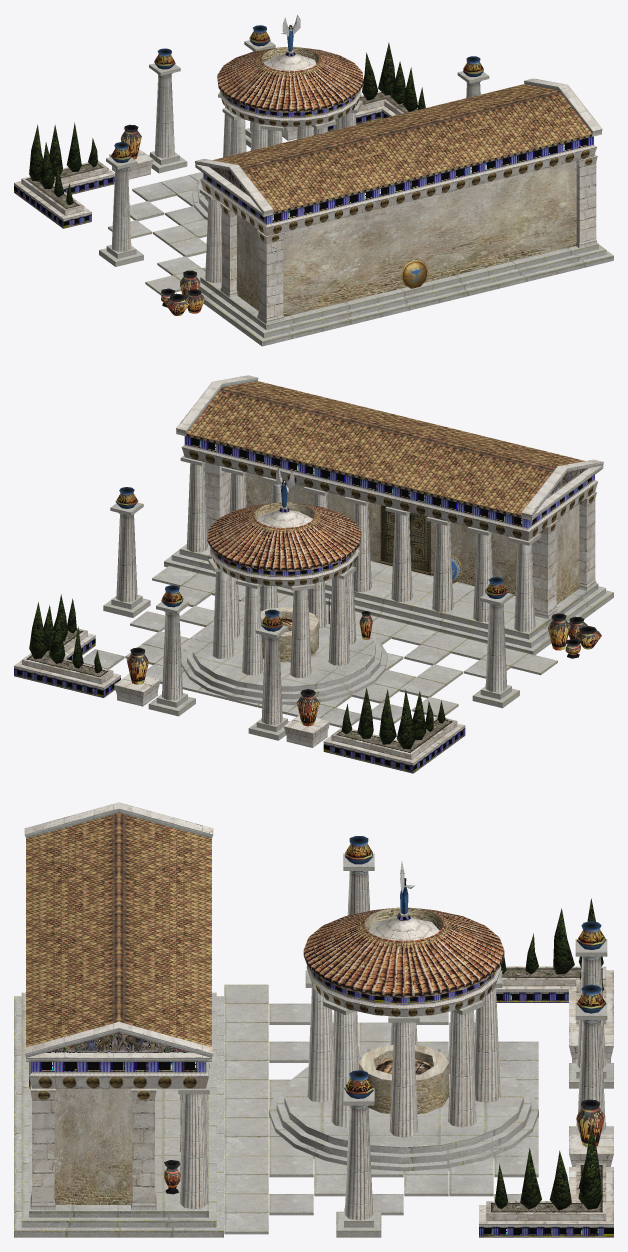
Rendered from kush_town_center.glb.
3 renders of one model, top to bottom at view 1: azimuth 30°, elevation 25°; view 2: azimuth 150°, elevation 25°; view 3: azimuth 270°, elevation 25°, orthographic. The views are drawn at different scales.
Visible parts, largest first — view 1: kush_town_center_part0, kush_town_center_part3, kush_town_center_part2, kush_town_center_part5, kush_town_center_part4, kush_town_center_part6; view 2: kush_town_center_part0, kush_town_center_part3, kush_town_center_part2, kush_town_center_part5, kush_town_center_part4; view 3: kush_town_center_part0, kush_town_center_part3, kush_town_center_part2, kush_town_center_part5, kush_town_center_part4.
Boxes of the visible parts, x1,y1,x2,y2 form: kush_town_center_part0: (14,46,602,324); kush_town_center_part3: (99,40,613,346); kush_town_center_part2: (22,15,483,315); kush_town_center_part5: (217,47,363,112); kush_town_center_part4: (29,42,425,204); kush_town_center_part6: (401,259,427,288); kush_town_center_part0: (14,375,603,773); kush_town_center_part3: (83,455,613,740); kush_town_center_part2: (22,463,601,754); kush_town_center_part5: (207,502,361,571); kush_town_center_part4: (29,594,445,749); kush_town_center_part0: (24,802,613,1237); kush_town_center_part3: (14,853,613,1237); kush_town_center_part2: (164,836,606,1220); kush_town_center_part5: (303,908,504,997); kush_town_center_part4: (495,898,603,1210).
Bounding box in the file's own units: 6.2 × 2.79 × 6.01.
7 materials, 7 textured.
